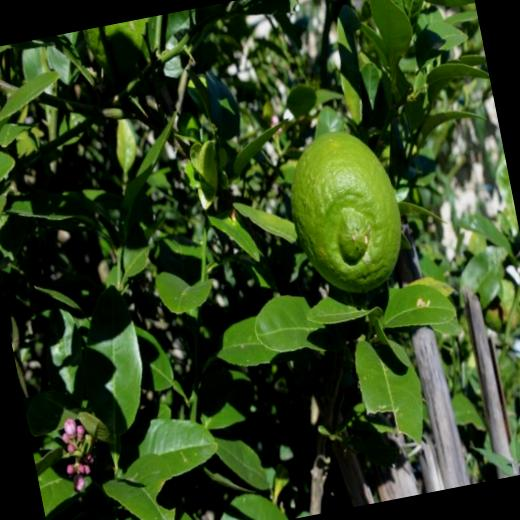Grape: (269, 116, 418, 302), (477, 276, 520, 332)
